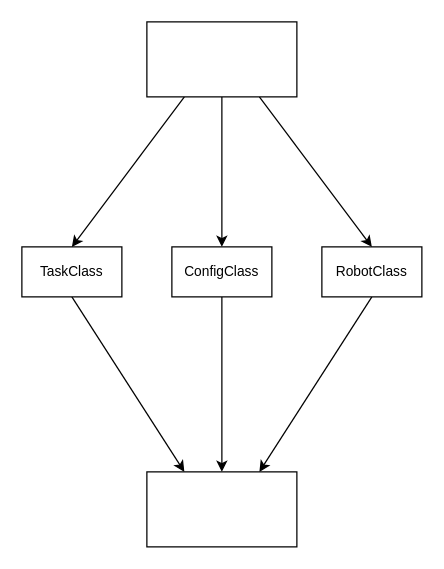
Image size: 444x569. Some labels were removed from this diagram. The centre of each missing label's shape, as x and y in pixels:
BaseClass (rename ?): (221,59)
serial (from github): (221,509)
